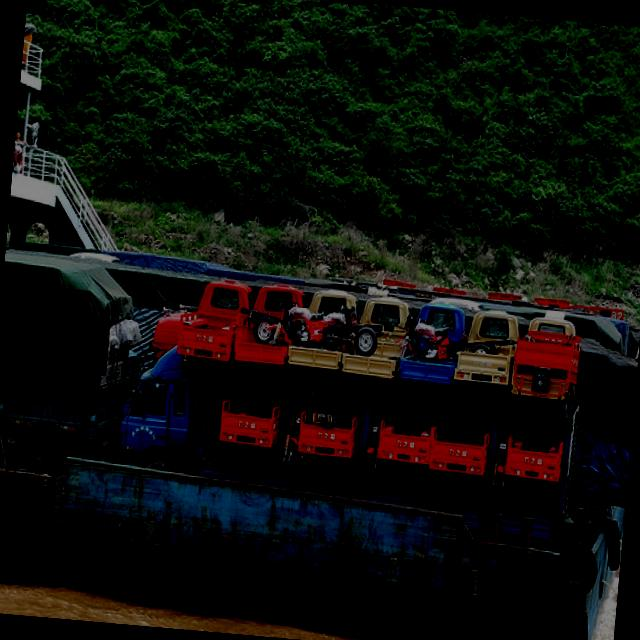Vehicle: (111, 342, 584, 546), (0, 251, 148, 482), (147, 270, 250, 368), (230, 280, 310, 381), (338, 295, 412, 395), (396, 298, 470, 398), (284, 286, 358, 386), (511, 308, 584, 402), (216, 384, 295, 470), (294, 393, 367, 479), (451, 306, 522, 393), (426, 409, 492, 496), (500, 418, 566, 504), (371, 404, 436, 486), (237, 296, 312, 349), (319, 299, 386, 357), (394, 310, 456, 364), (489, 416, 518, 504), (278, 399, 309, 472)
